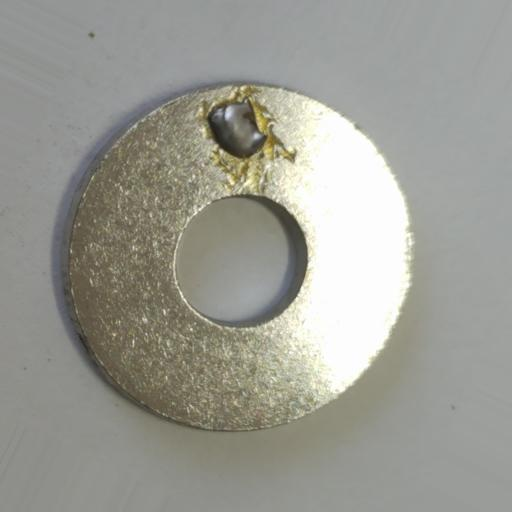excess_material: (205, 96, 271, 159)
